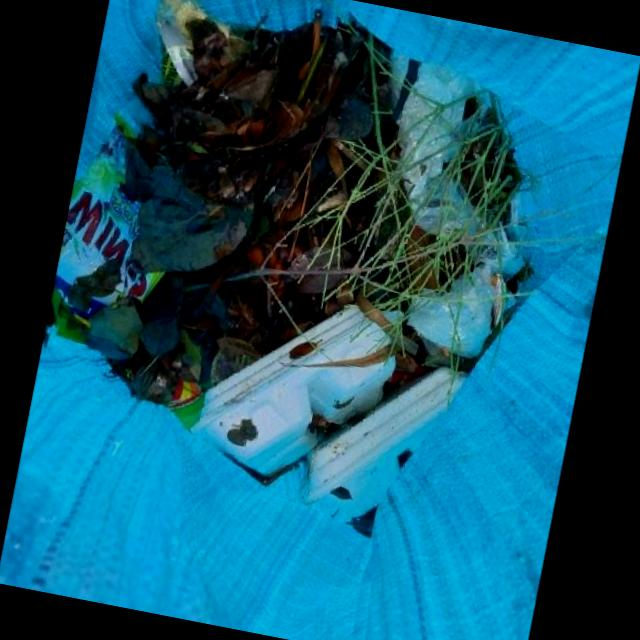goi_nhua_nho: (54, 134, 166, 319)
la_cay: (132, 140, 253, 272), (184, 99, 310, 201), (142, 78, 269, 147), (192, 19, 277, 114), (140, 272, 186, 356)
xop: (192, 304, 396, 486), (300, 365, 469, 516)
